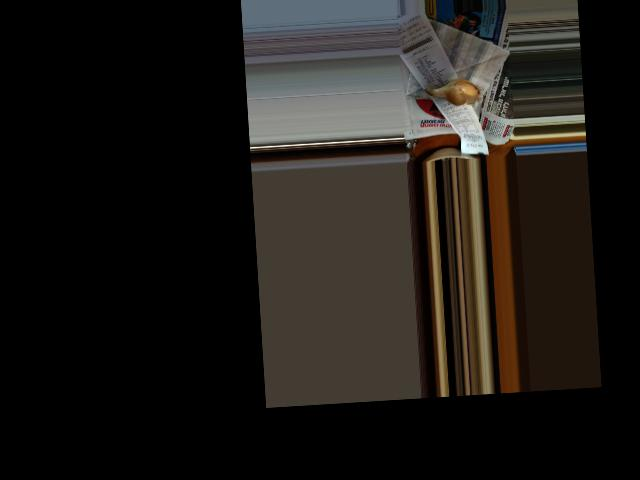onion: (432, 75, 478, 107)
